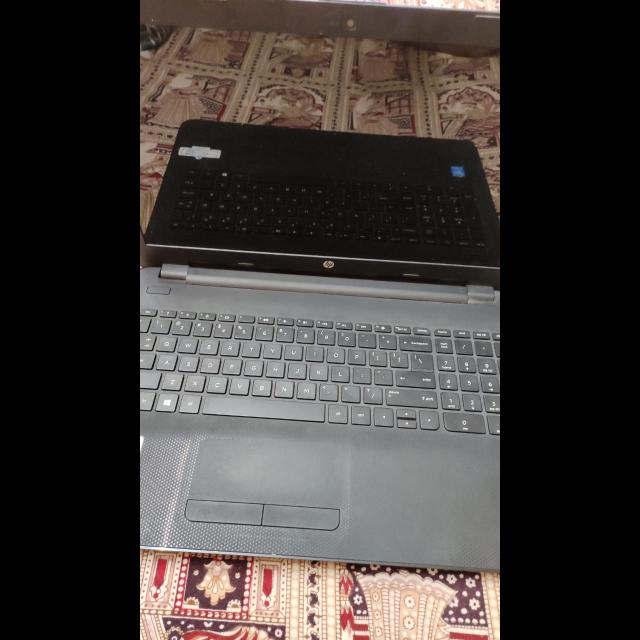Laptop: (144, 111, 501, 593)
